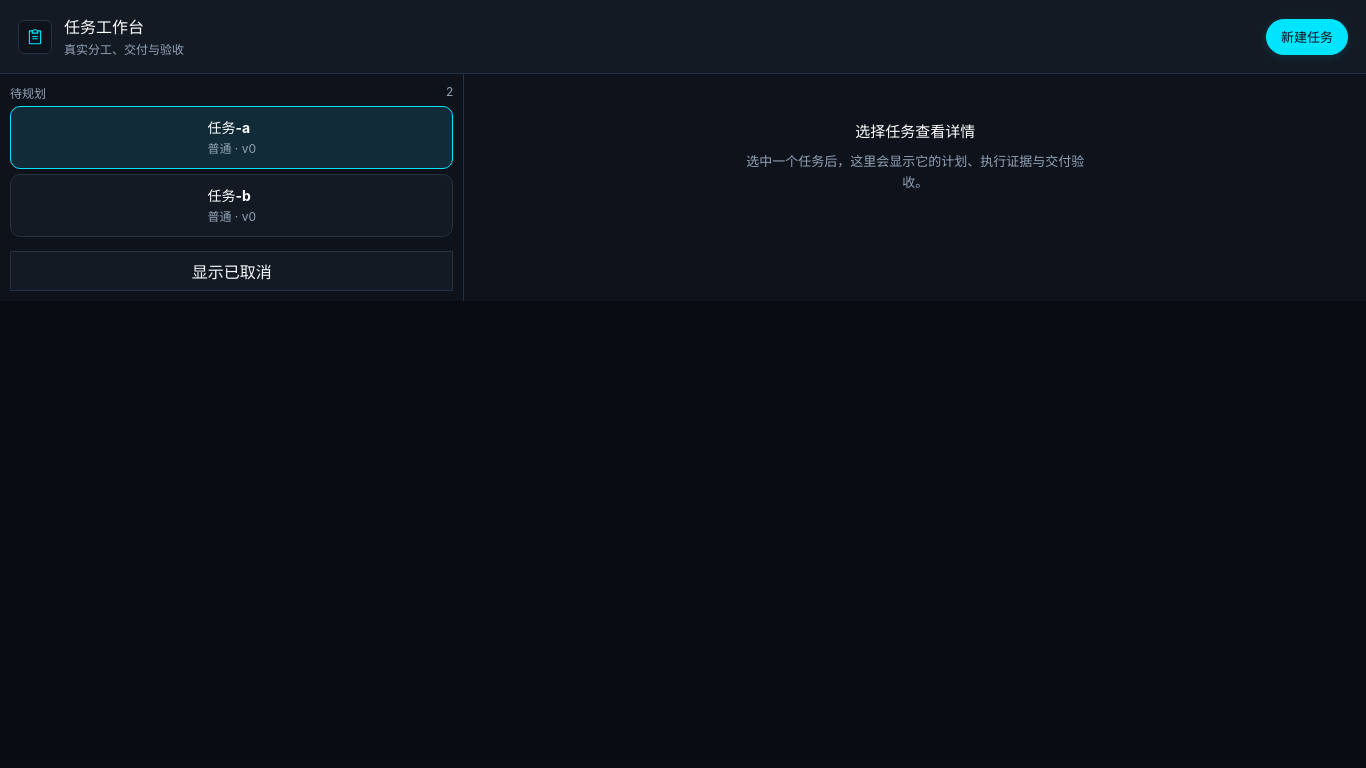
does not let a delayed detail replace the task selected later; fetches one detail per selection
Click the button "任务-b 普通 · v0" at (232, 206), box [23,185,440,226]
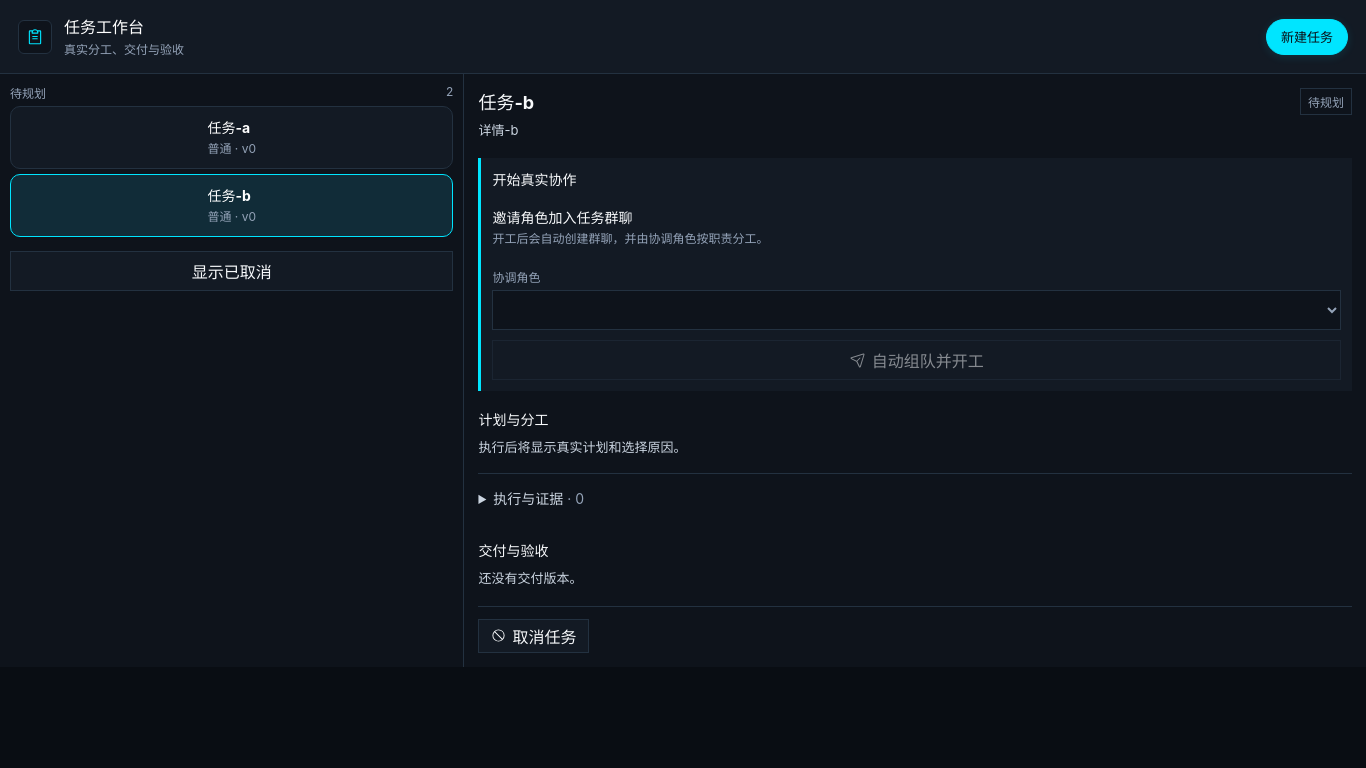
Result: the heading "任务-b" is shown at [478,88,534,114]
